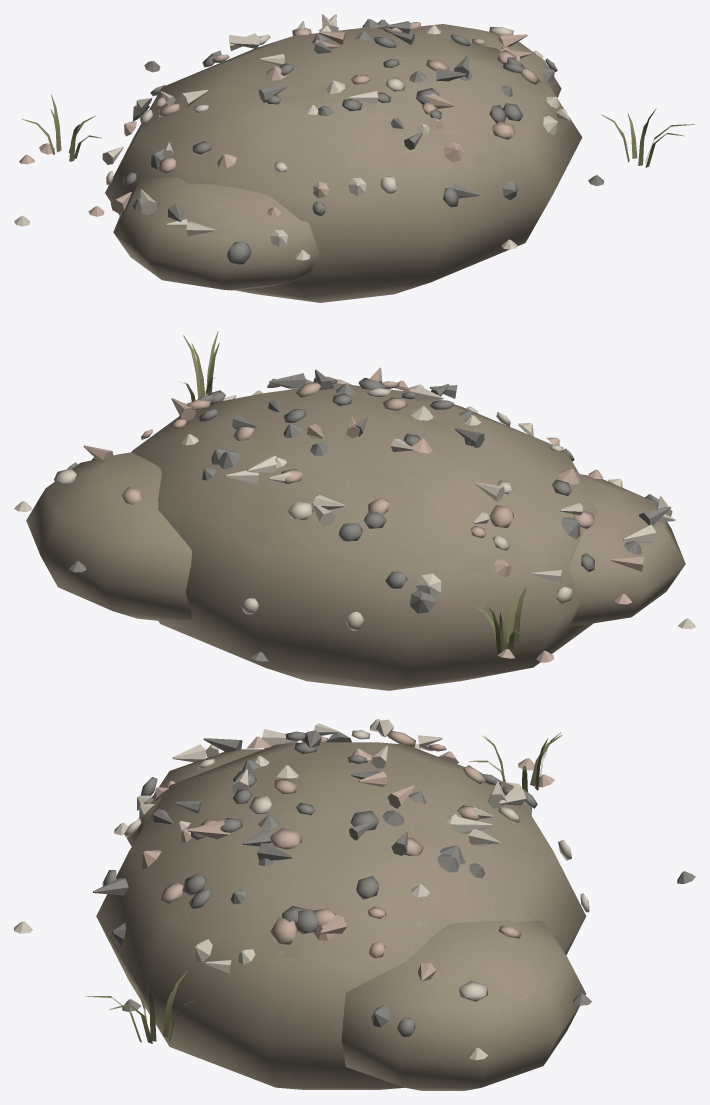
File: shell_mound.glb
The picture shows the model from 3 angles, top to bottom: view 1: azimuth 30°, elevation 25°; view 2: azimuth 150°, elevation 25°; view 3: azimuth 270°, elevation 25°; orthographic projection. The views are drawn at different scales.
Parts seen in each view (by area): view 1: shell_mound; view 2: shell_mound; view 3: shell_mound.
Boxes of the visible parts, x1=… form: shell_mound: x1=14, y1=14, x2=694, y2=302; shell_mound: x1=14, y1=331, x2=695, y2=690; shell_mound: x1=14, y1=719, x2=695, y2=1090.
Bounding box in the file's own units: 3.92 × 1.45 × 3.34.
Materials: 5 (5 with a texture image).
